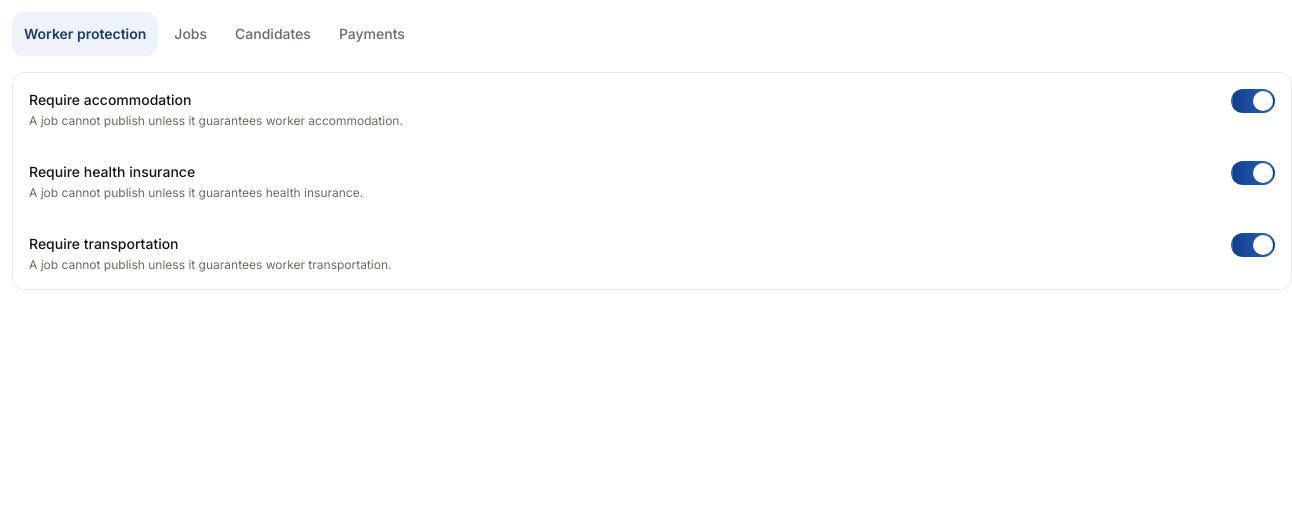
SettingsTabs — grouping + typed editors › a non-core edit is dirty → save → persisted (per-row save scope)
Click the tab "Jobs". click: (191, 34)
box: [162,12,219,56]
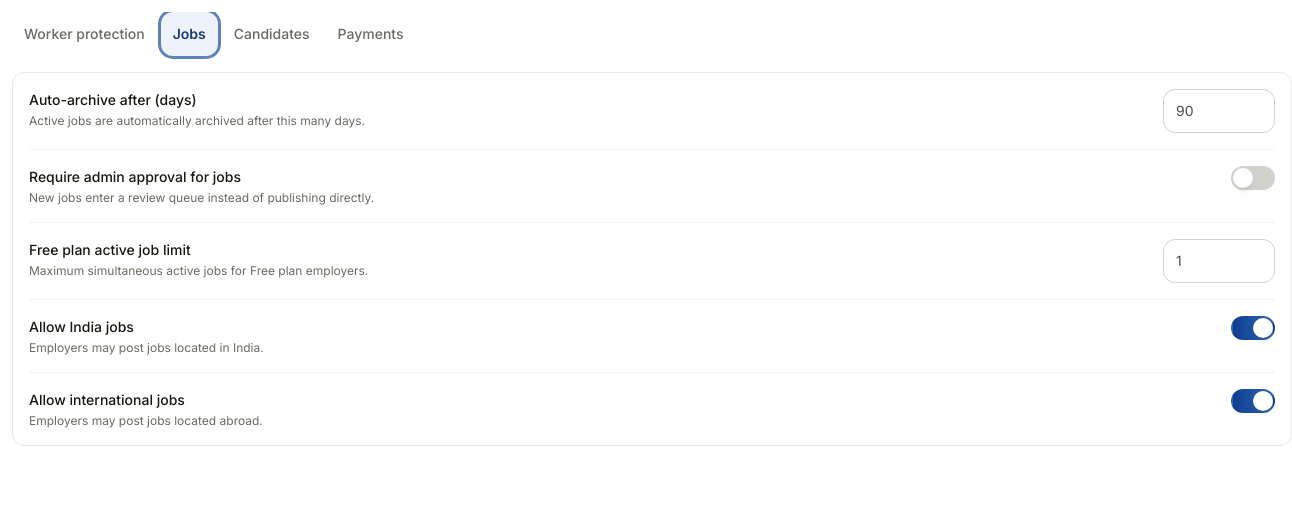
Replace the text in the number field labelled "Auto-archive after (days)" with "120". click: (1219, 111)
box: [1163,89,1275,133]
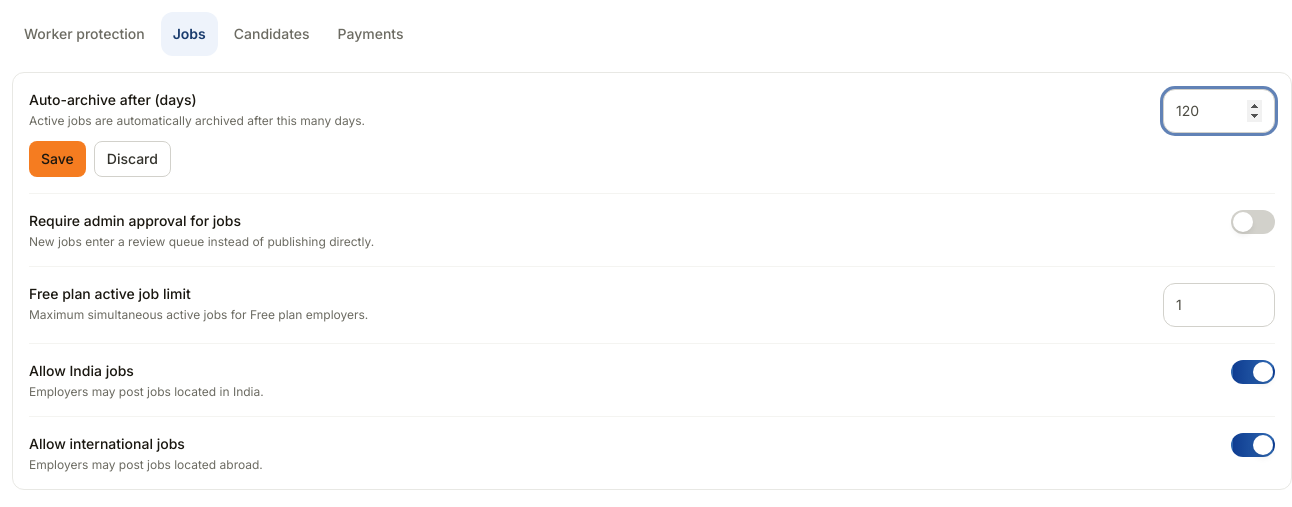
Click the button "Save". click: (57, 159)
box: [29,141,86,177]
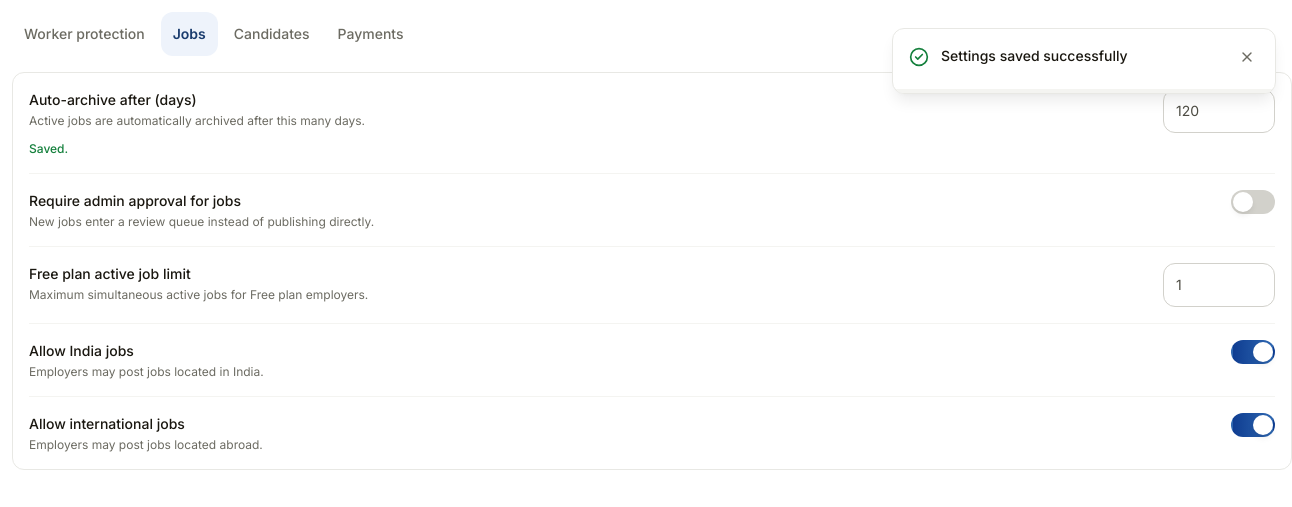
Expected: the text "Saved." is shown, [29,141,68,156]
